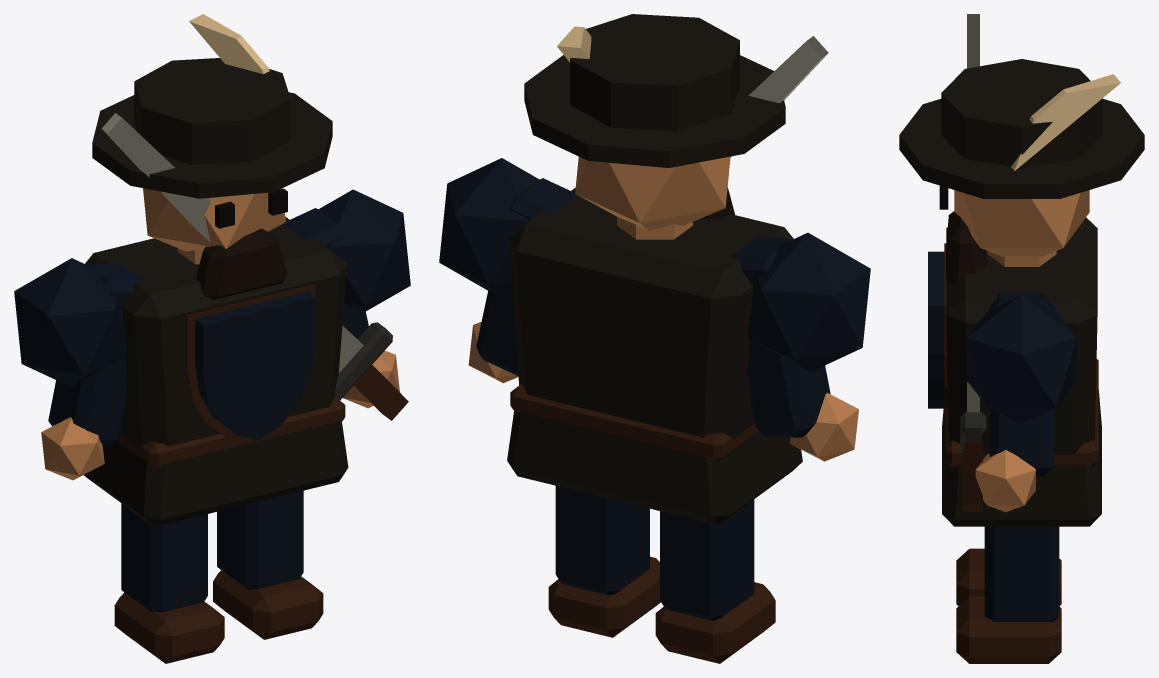
Rendered from mercenary.obj.
3 renders of one model, left to right at view 1: azimuth 30°, elevation 25°; view 2: azimuth 150°, elevation 25°; view 3: azimuth 270°, elevation 25°, orthographic. The views are drawn at different scales.
Visible parts, largest first — view 1: body, tool; view 2: body, tool; view 3: body, tool.
Boxes of the visible parts, x1=… form: body: x1=14, y1=14, x2=410, y2=663; tool: x1=101, y1=113, x2=408, y2=420; body: x1=439, y1=14, x2=870, y2=663; tool: x1=730, y1=36, x2=828, y2=157; body: x1=899, y1=59, x2=1144, y2=663; tool: x1=960, y1=14, x2=986, y2=511.
Size of the model in its own units: 0.2716 by 0.3851 by 0.1514.
